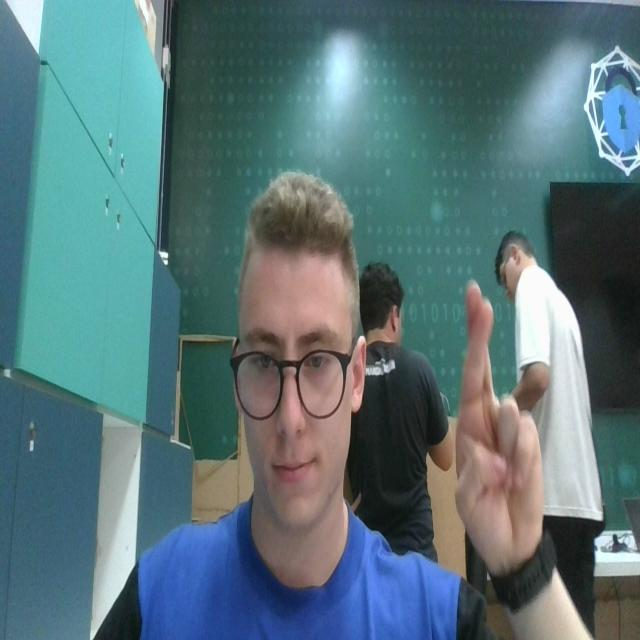R: (452, 274, 548, 585)
